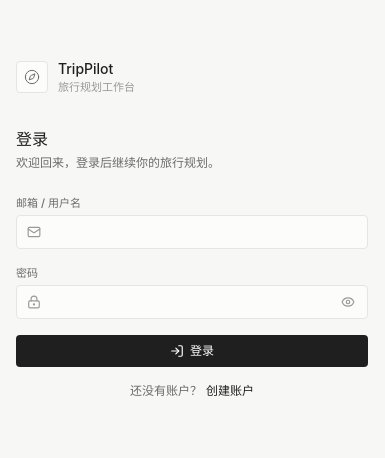
Test: TripPilot workspace shell › shows login and registration modes to unauthenticated visitors
Expected: the heading "登录" is shown, [16,129,48,149]
Click the button "创建账户".
click(230, 391)  # box [206,383,254,399]
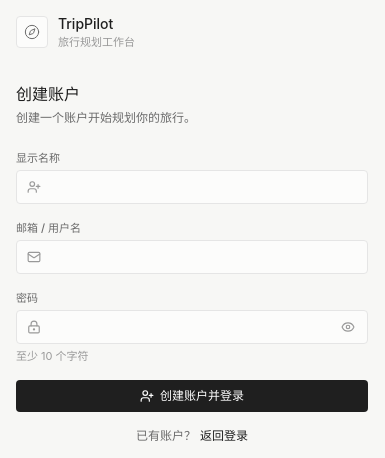
Now the heading "创建账户" is shown, box [16,84,80,104]
